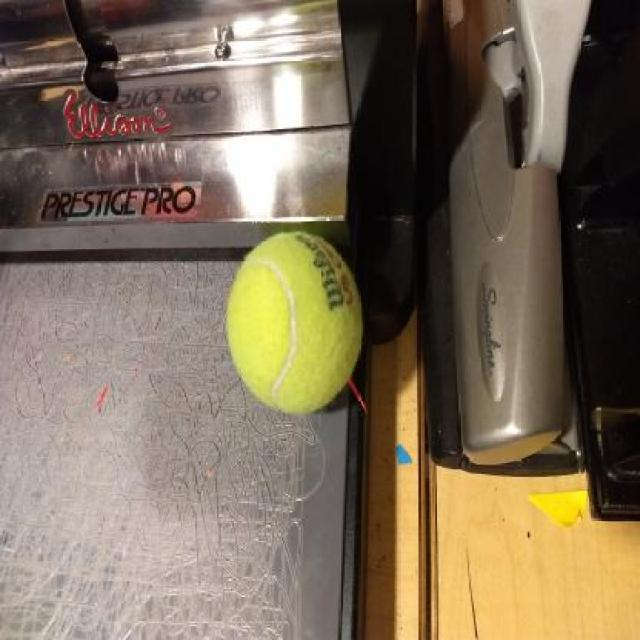Tennis_Ball: (222, 229, 364, 420)
